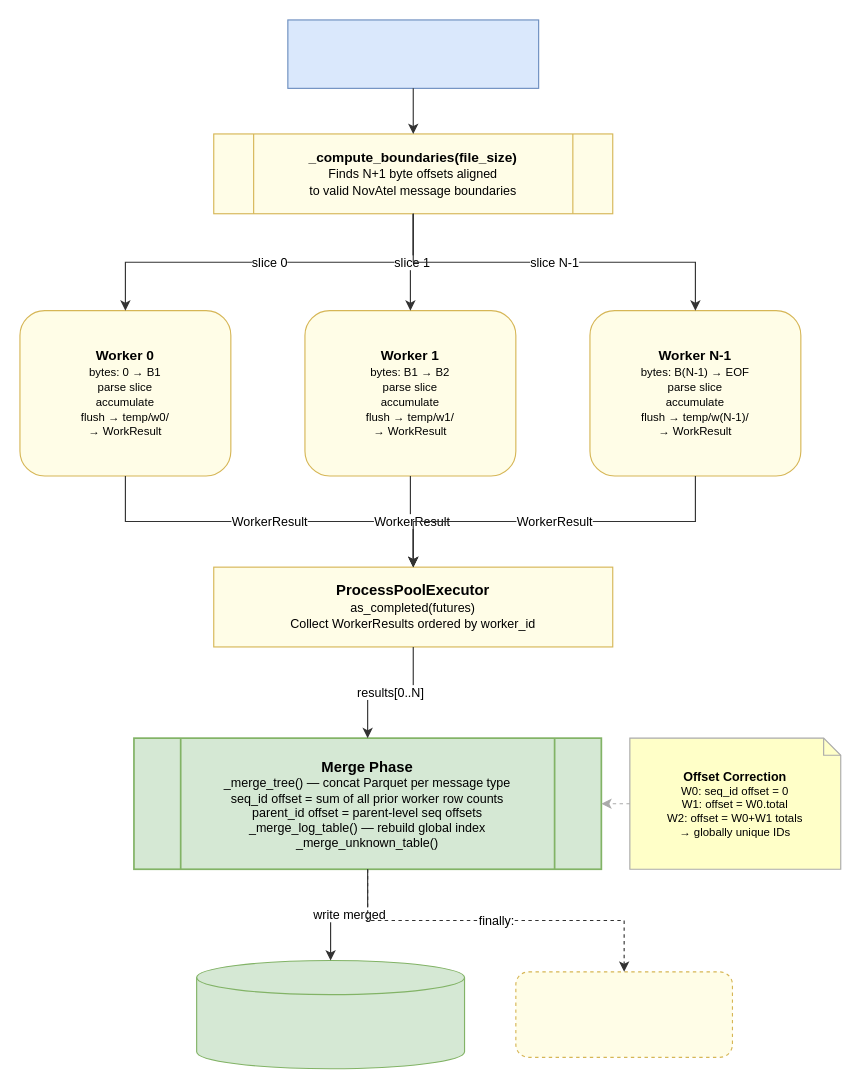
Image size: 861x1089. Some labels were removed from this diagram. The shapes that lost their labels are listed below. From the top down, each one's centre as x and y in pixels, then its label:
point (413, 53): GPS File (50 MB+) input_file path
point (330, 1014): Parquet Database Globally unique seq IDs All message types merged _metadata.json
point (623, 1014): Cleanup shutil.rmtree(temp/) Remove all worker temp dirs
